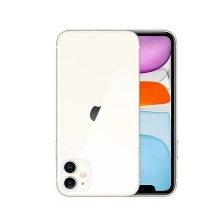phone: (88, 26, 180, 200), (53, 29, 141, 199)
